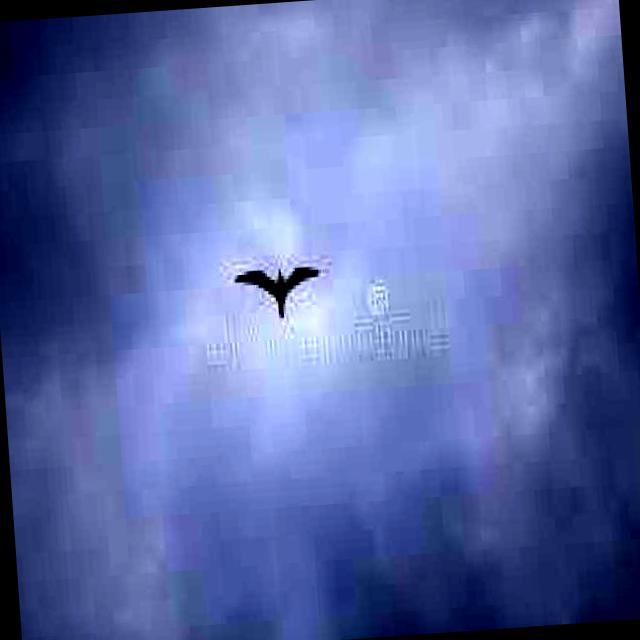bird: (225, 248, 324, 324)
